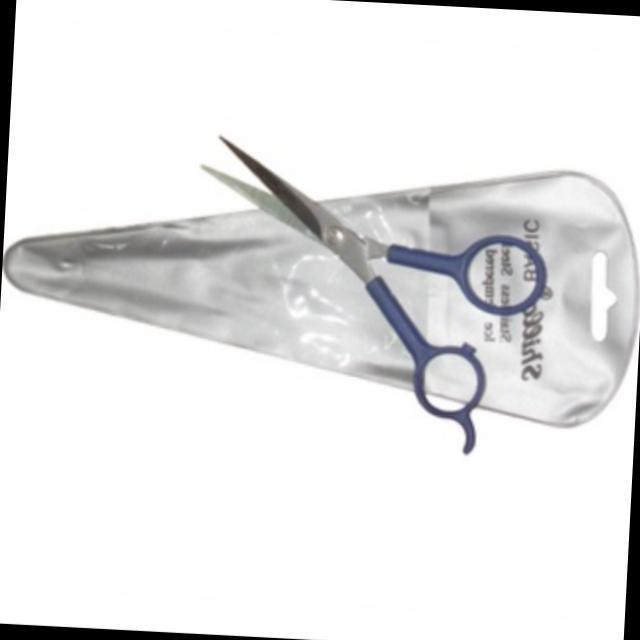scissors: (192, 80, 565, 490)
